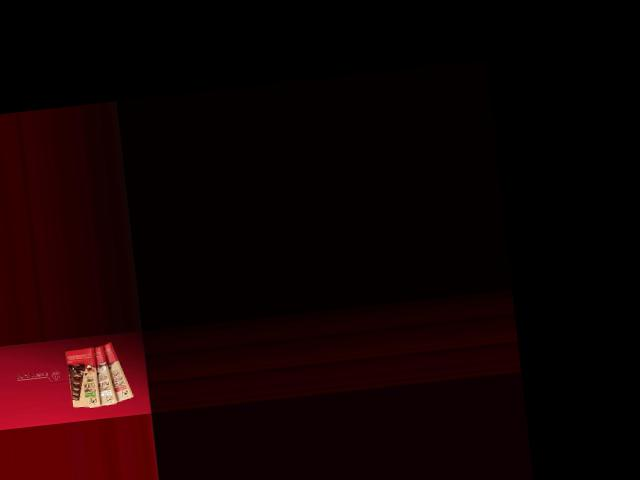chocolate: (96, 338, 134, 407)
